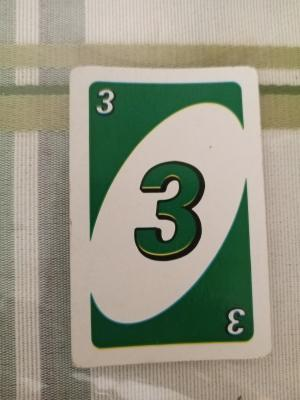green: (83, 81, 242, 151)
num_3: (123, 159, 220, 278), (90, 81, 130, 132), (223, 305, 249, 339)
